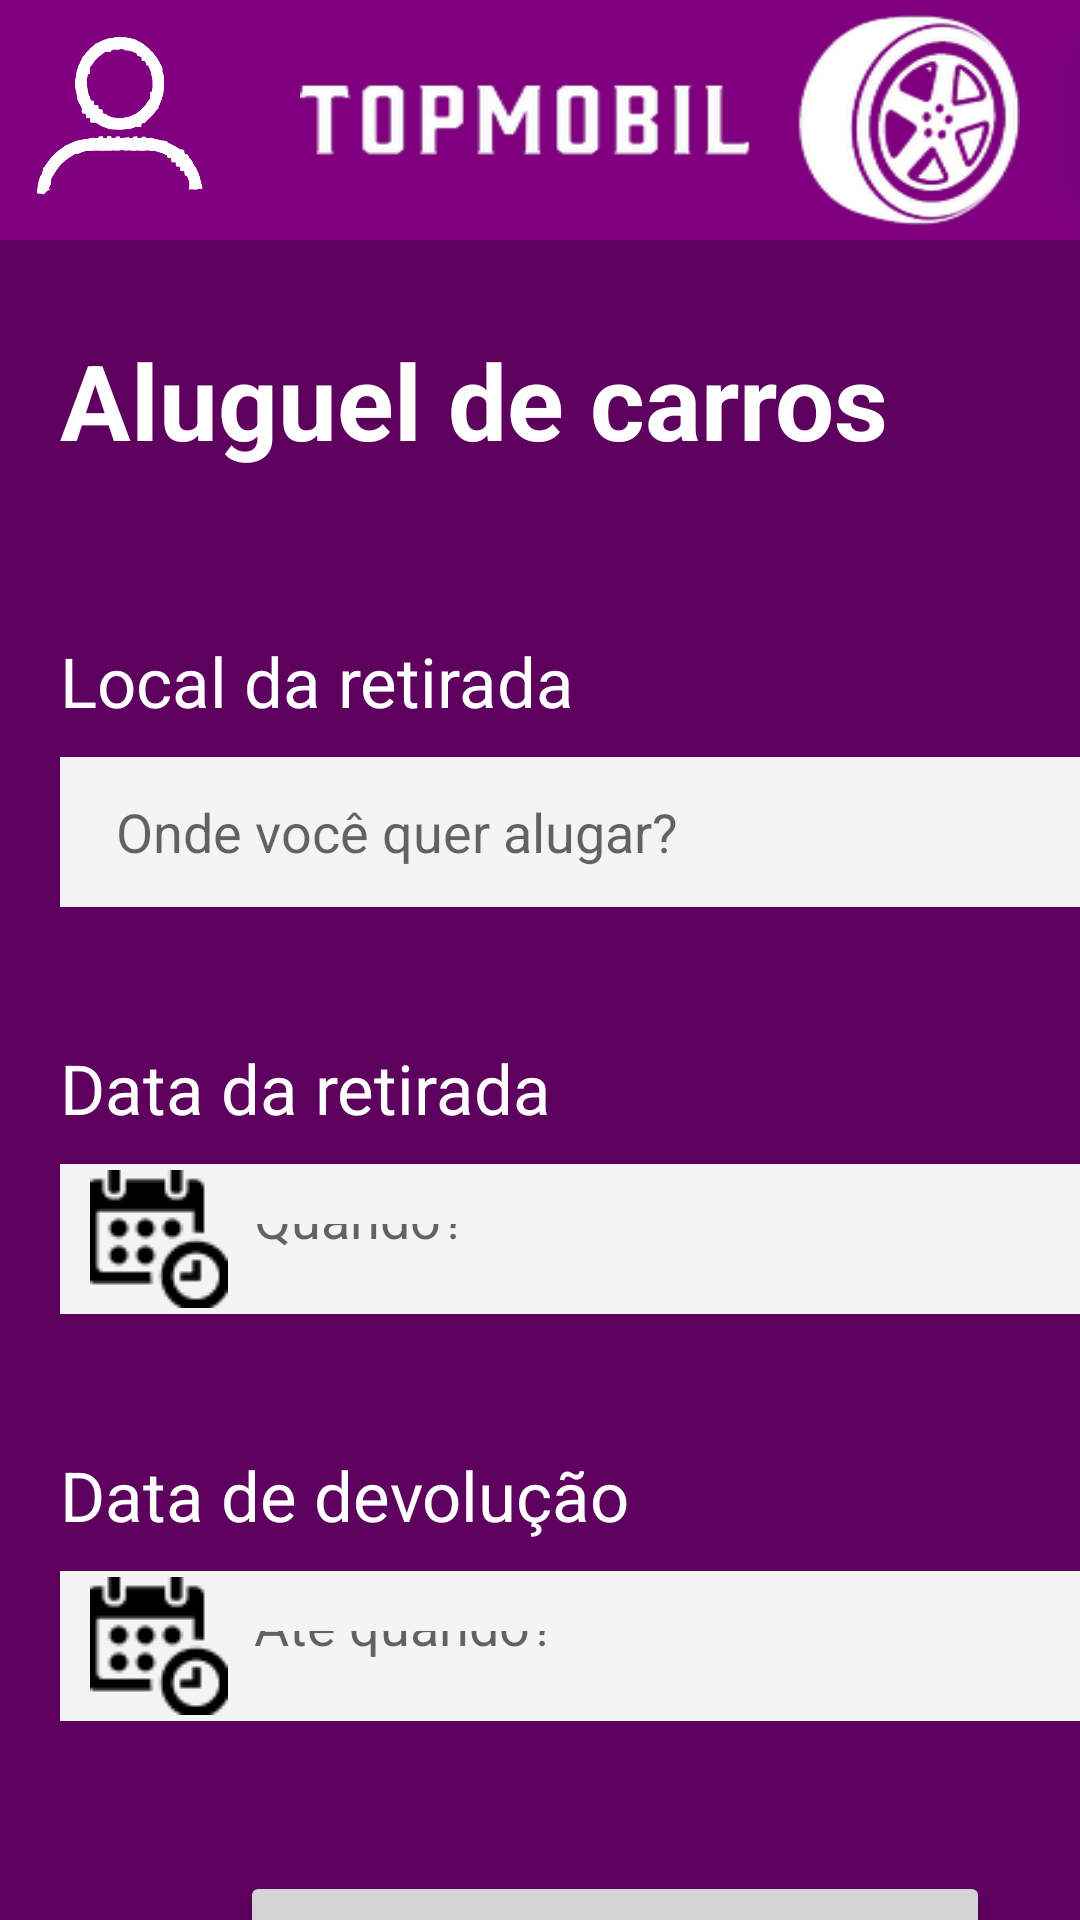

Icon click points for this 1080px×1920px phone screenshot, format (x=x, y=y):
usuario: (x=120, y=116)
